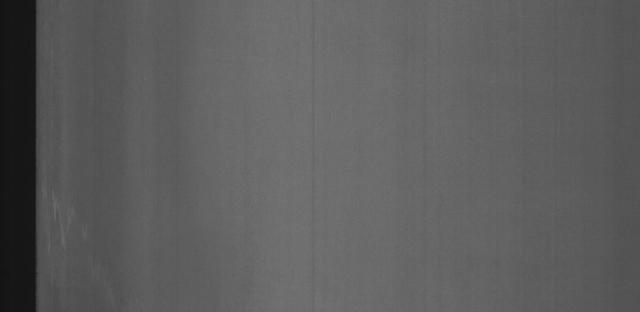silk_spot: (41, 161, 97, 260)
